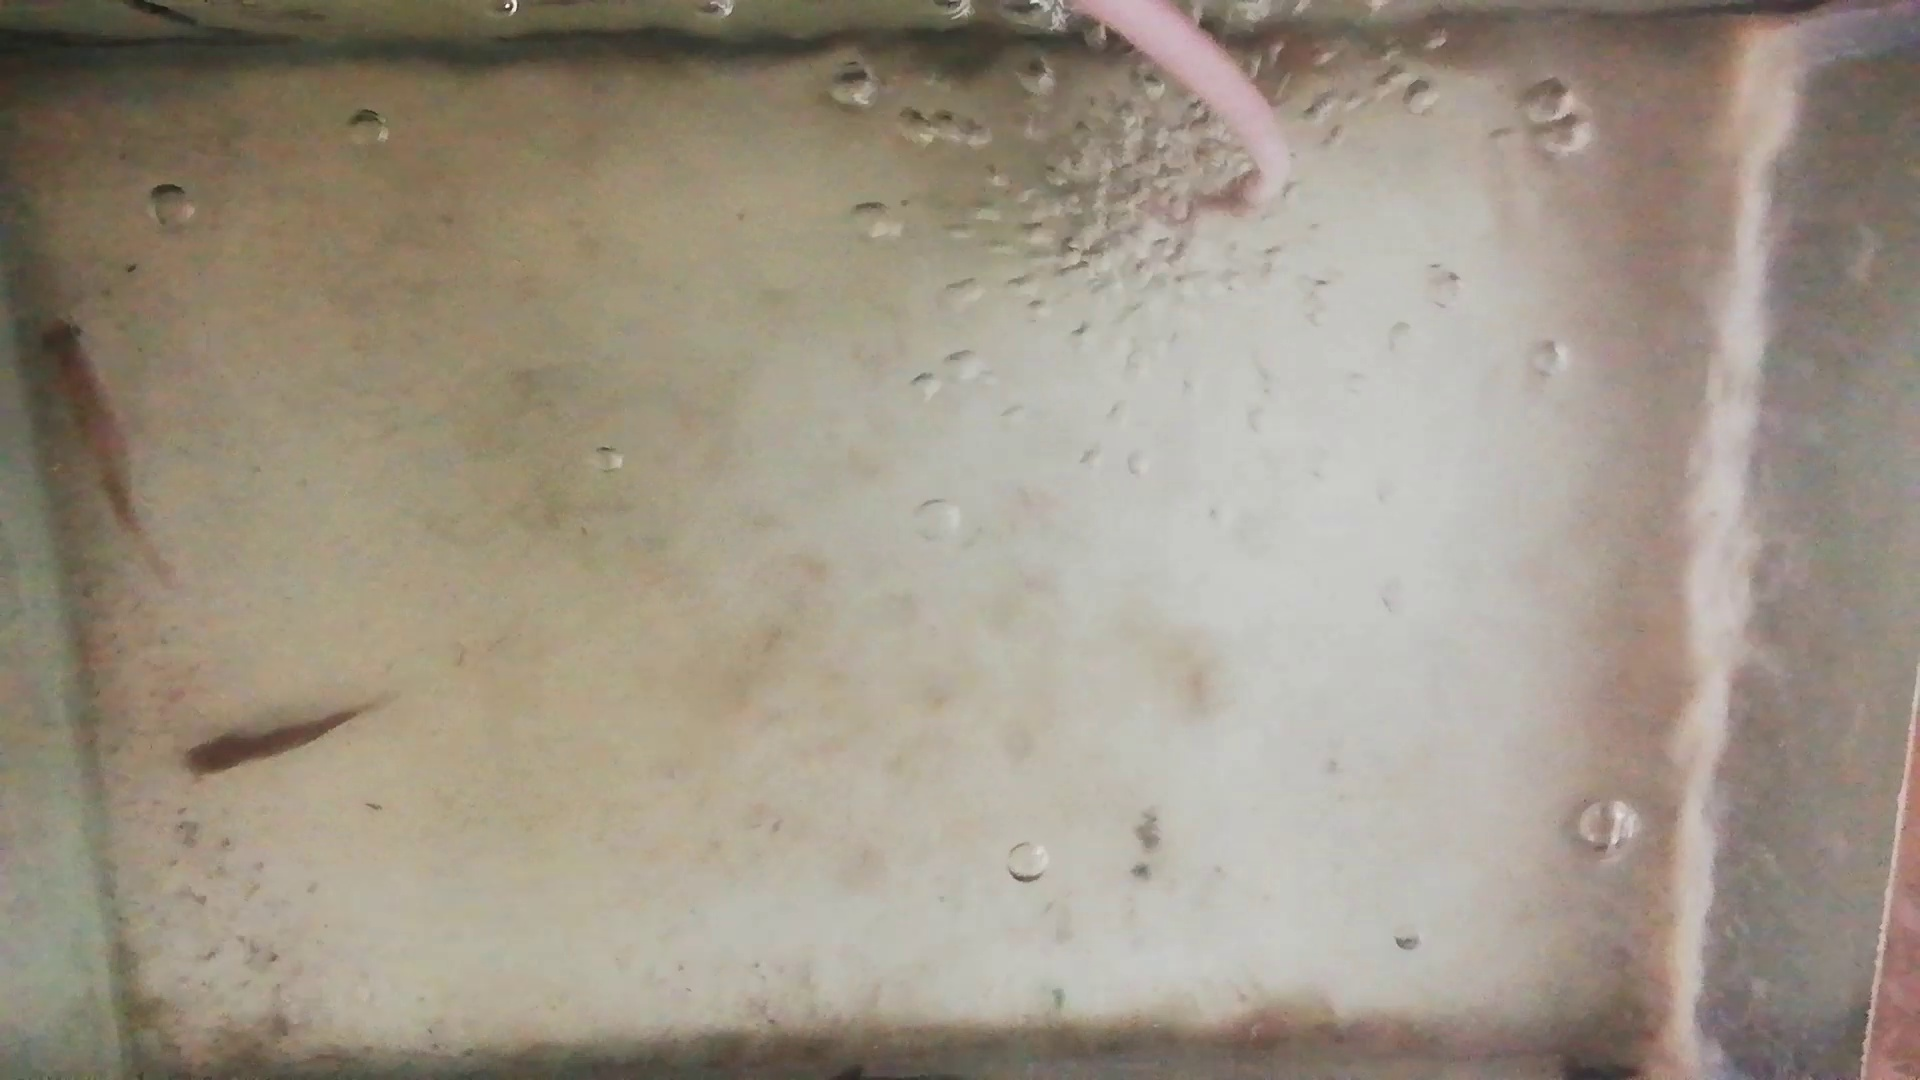fish: (36, 316, 135, 526), (183, 712, 355, 773)
